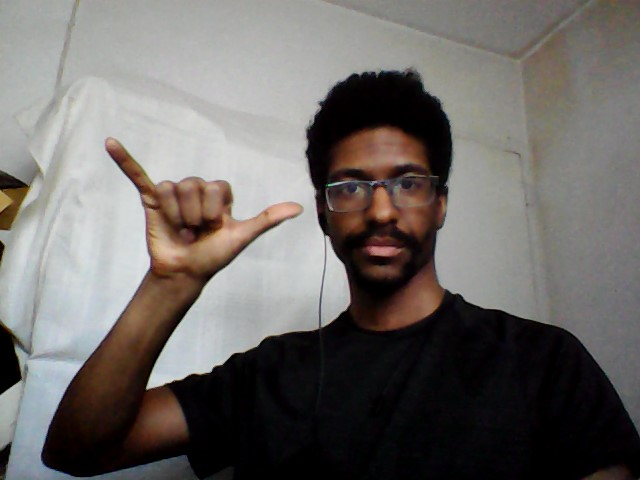y: (100, 131, 307, 287)
